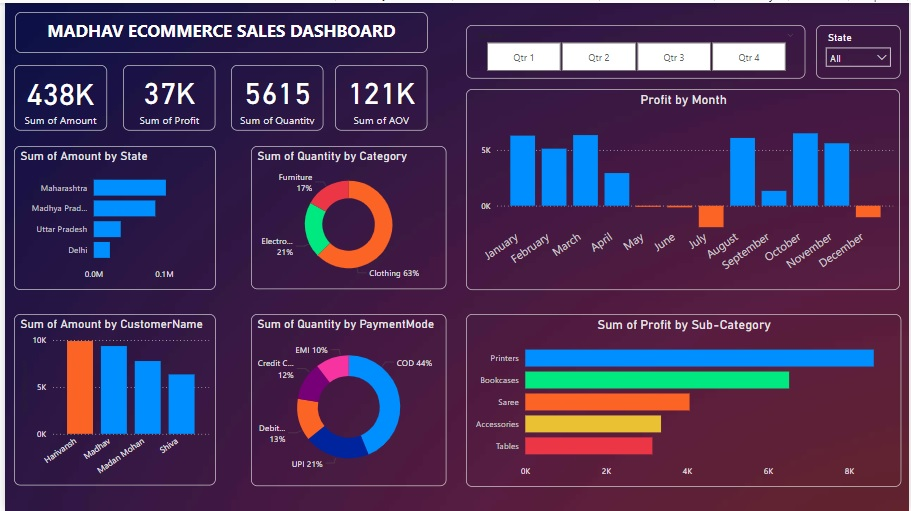

This screenshot's page, from the dashboard's own definition file:
{"tool":"powerbi","page":{"name":"Page 1","canvas":[1280,720],"ordinal":0},"visuals":[{"type":"textbox","box":[13.8,12.5,585,57.5],"z":0},{"type":"columnChart","title":"Profit by Month","fields":{"Y":["Details.Profit"],"Category":["Orders (1).Order Date.Variation.Date Hierarchy.Month"]},"box":[653.3,121.7,615,285],"z":1},{"type":"barChart","fields":{"Category":["Details.Sub-Category"],"Y":["Details.Profit"]},"box":[652.9,441.4,627.1,244.3],"z":2},{"type":"donutChart","fields":{"Category":["Details.Category"],"Y":["Details.Quantity"]},"box":[348.3,203.3,276.7,203.3],"z":3},{"type":"donutChart","fields":{"Category":["Details.PaymentMode","Details.Category"],"Y":["Details.Quantity"]},"box":[348.6,441.4,277.1,244.3],"z":4},{"type":"card","fields":{"Values":["Details.Amount"]},"box":[13.3,88.3,131.7,93.3],"z":5},{"type":"card","fields":{"Values":["Details.Profit"]},"box":[167.1,88.6,131.4,92.9],"z":6},{"type":"card","fields":{"Values":["Details.Quantity"]},"box":[320,88.6,131.4,92.9],"z":7},{"type":"card","fields":{"Values":["Details.AOV"]},"box":[467.1,88.6,131.4,92.9],"z":8},{"type":"barChart","fields":{"Category":["Orders (1).State"],"Y":["Details.Amount"]},"box":[12.9,202.9,285.7,204.3],"z":9},{"type":"columnChart","fields":{"Category":["Orders (1).CustomerName"],"Y":["Details.Amount"]},"box":[12.9,441.4,285.7,242.9],"z":10},{"type":"slicer","fields":{"Values":["Orders (1).State"]},"box":[1148.8,31.2,120,76.2],"z":11},{"type":"slicer","fields":{"Values":["Orders (1).Order Date.Variation.Date Hierarchy.Quarter"]},"box":[653.8,31.2,481.2,76.2],"z":12}]}

Visuals, with their boxes in screenshot pixels (x1, y1, x2, y2), scaled from the page's 1280x720 canvas onto the 911x511 screenshot:
textbox: region(10, 9, 426, 50)
"Profit by Month" columnChart: region(465, 86, 903, 289)
barChart - Details.Sub-Category x Details.Profit: region(465, 313, 910, 487)
donutChart - Details.Category x Details.Quantity: region(248, 144, 445, 289)
donutChart - Details.PaymentMode x Details.Category: region(248, 313, 445, 487)
card - Details.Amount: region(9, 63, 103, 129)
card - Details.Profit: region(119, 63, 212, 129)
card - Details.Quantity: region(228, 63, 321, 129)
card - Details.AOV: region(332, 63, 426, 129)
barChart - Orders (1).State x Details.Amount: region(9, 144, 213, 289)
columnChart - Orders (1).CustomerName x Details.Amount: region(9, 313, 213, 486)
slicer - Orders (1).State: region(818, 22, 903, 76)
slicer - Orders (1).Order Date.Variation.Date Hierarchy.Quarter: region(465, 22, 808, 76)
